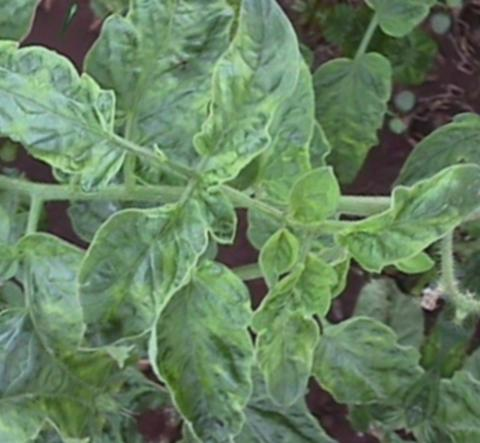Tomato leaf mosaic virus: (122, 246, 318, 443), (50, 162, 227, 380), (169, 0, 330, 193), (332, 112, 480, 304), (226, 244, 357, 415), (9, 42, 152, 193), (300, 302, 444, 430), (95, 0, 238, 120), (279, 154, 354, 240), (0, 230, 27, 297)
